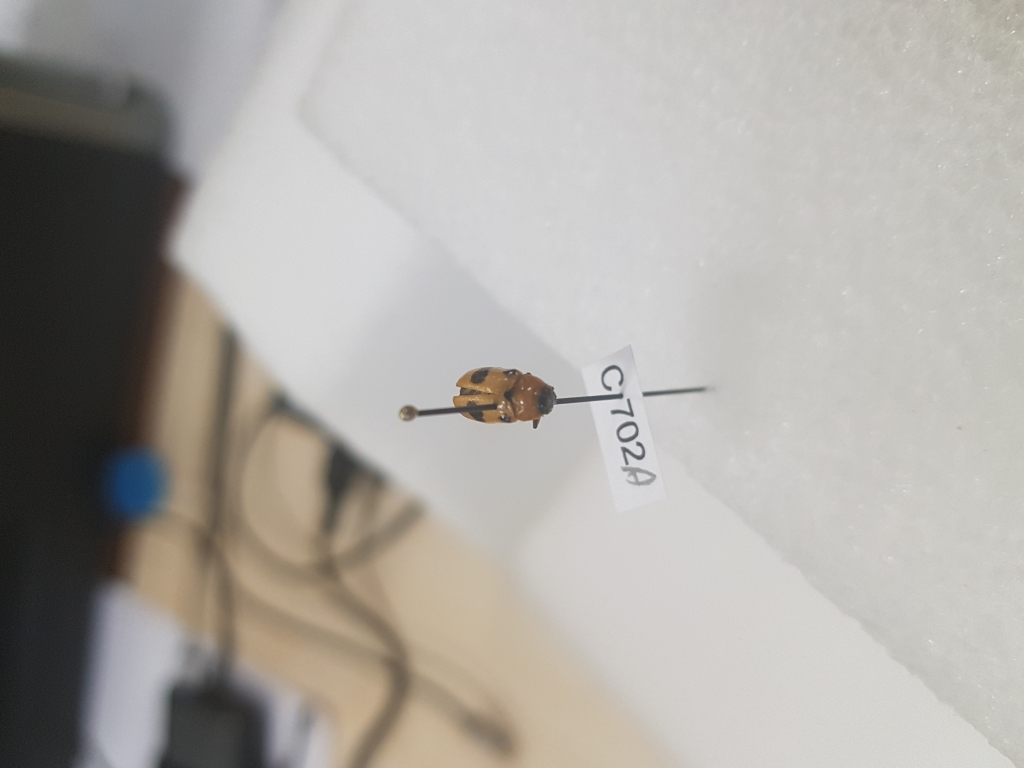Tituboea_macropus: (443, 362, 558, 431)
